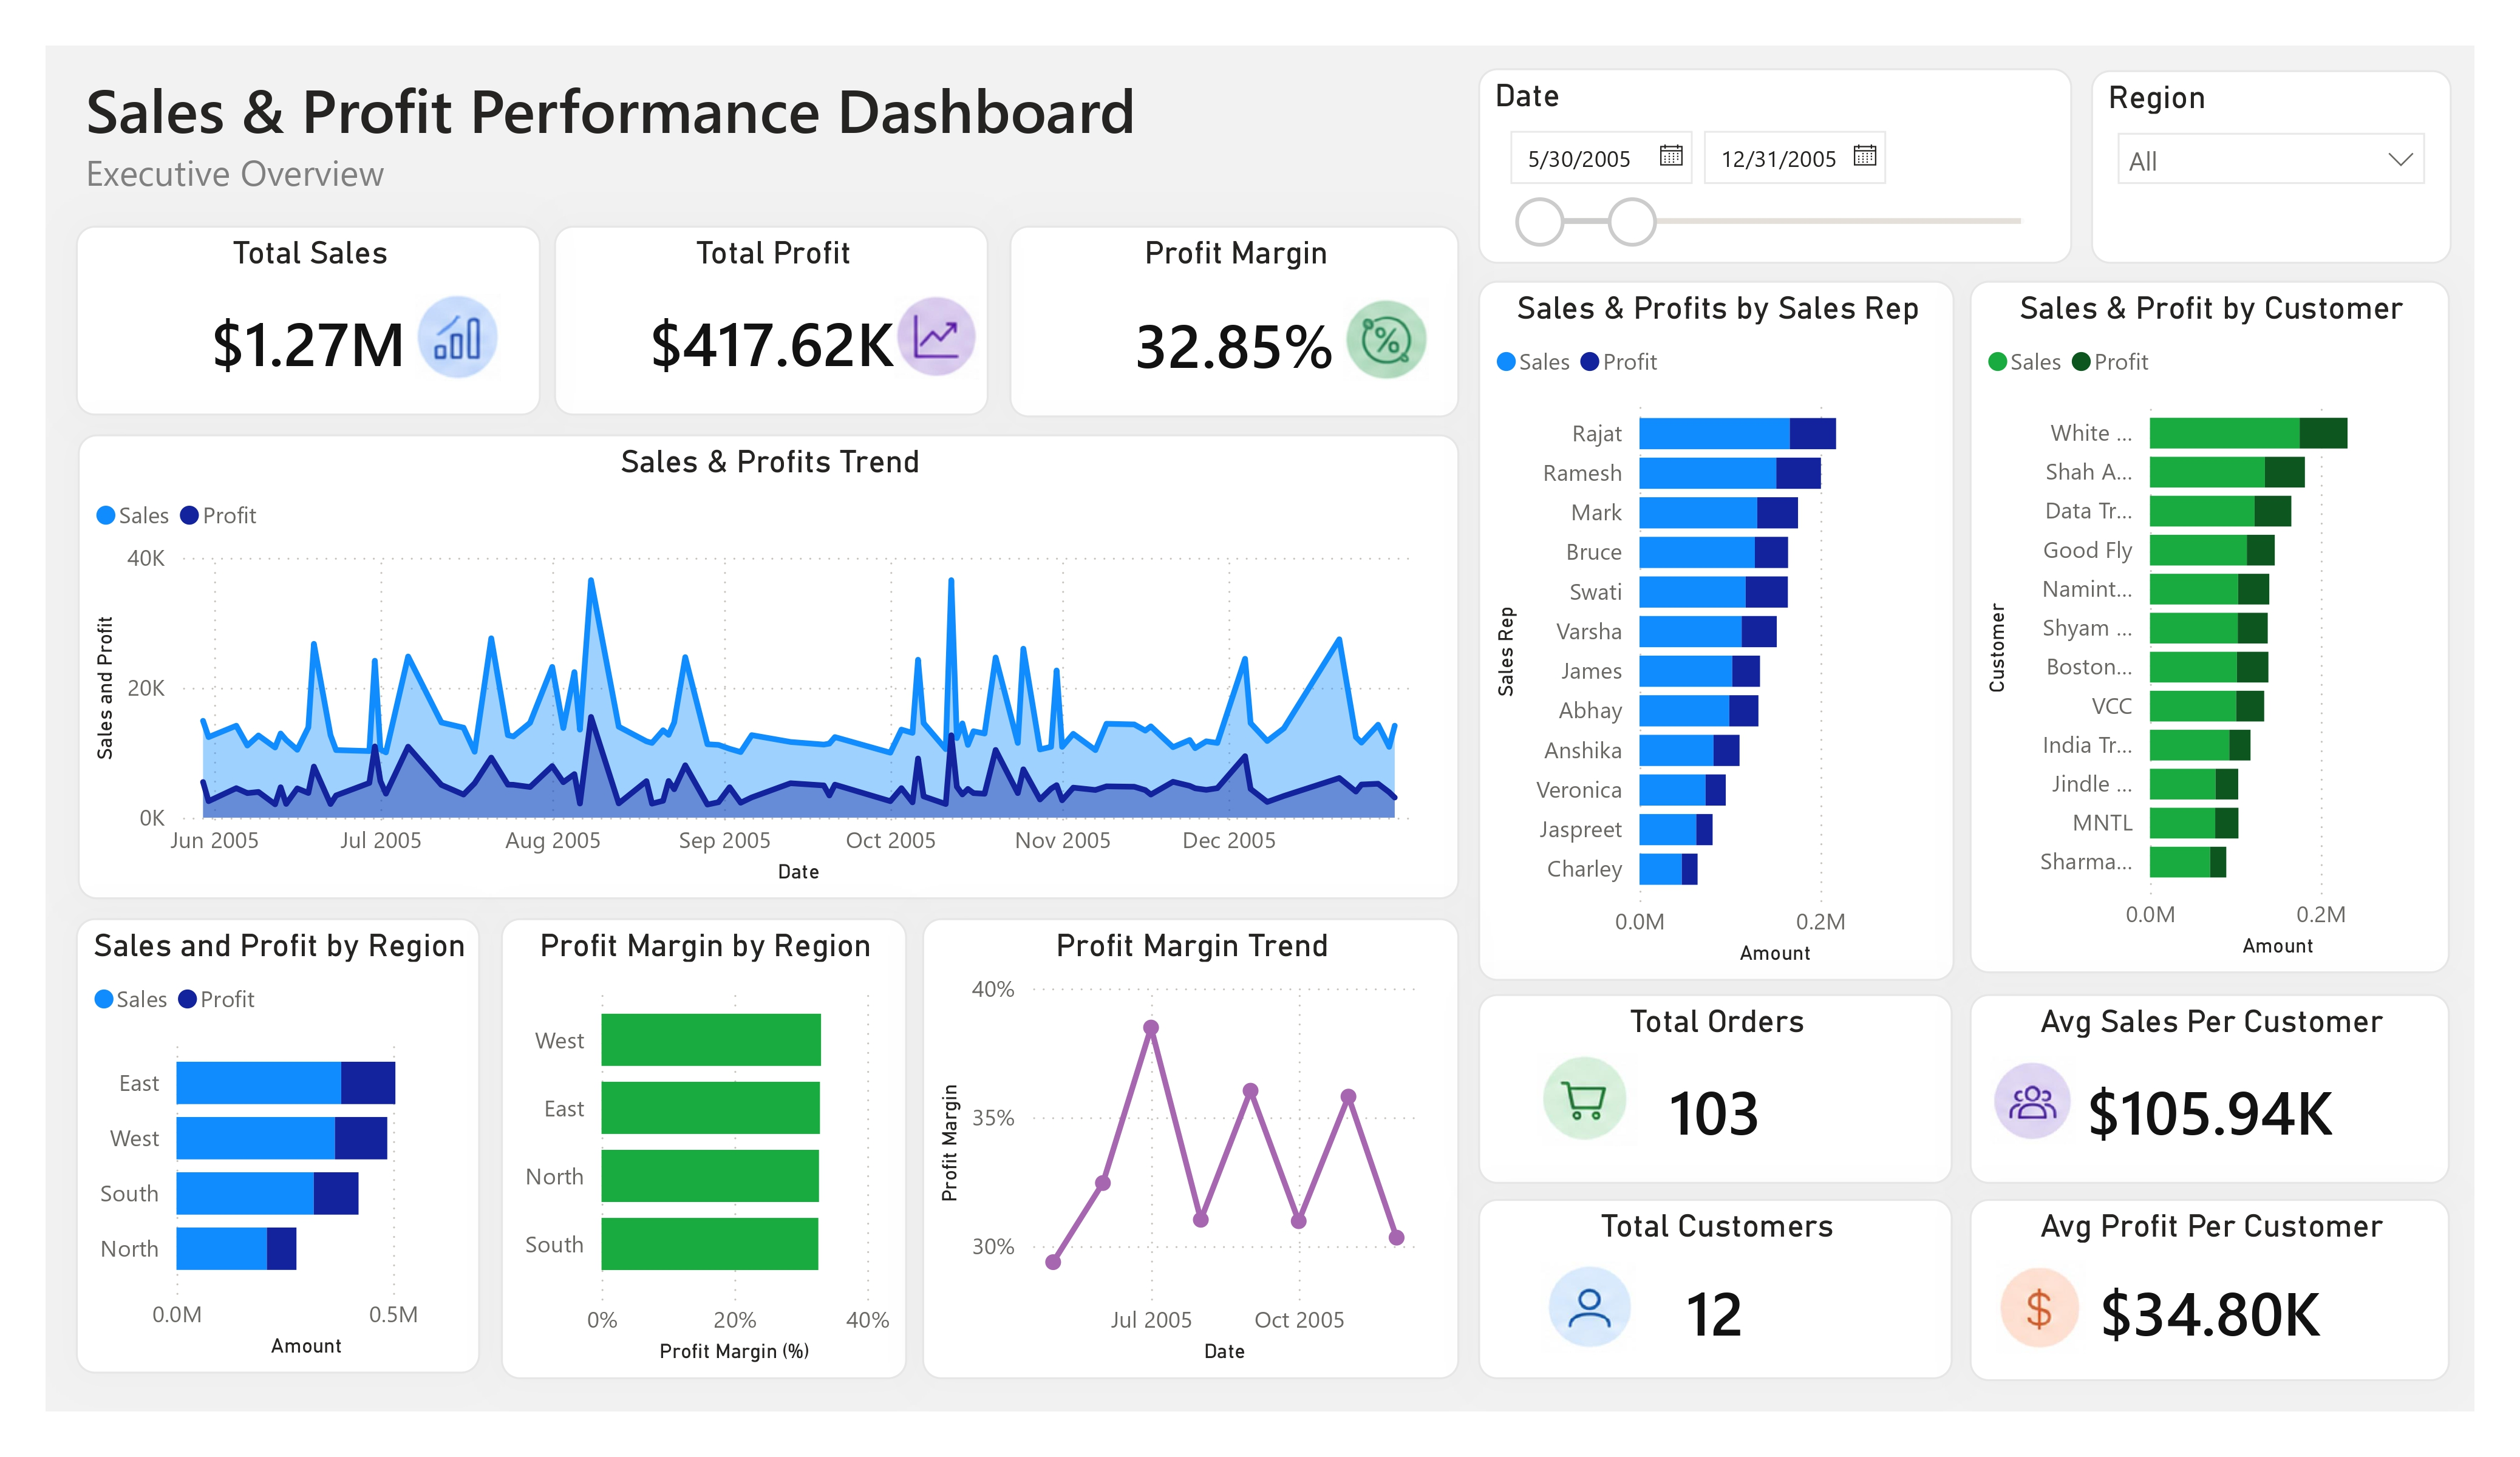

The page's visual inventory and layout, read from the dashboard file:
{"tool":"powerbi","page":{"name":"Executive Overview","canvas":[1280,720],"ordinal":0},"visuals":[{"type":"cardVisual","title":"Profit Margin","fields":{"Data":["DataModel.Profit Margin"]},"box":[507.7,95.4,236.9,100.8],"z":0},{"type":"cardVisual","title":"Total Profit","fields":{"Data":["Sum(DataModel.Profit)"]},"box":[268.2,95.3,228.8,100],"z":1000},{"type":"cardVisual","title":"Total Sales","fields":{"Data":["Sum(DataModel.Sales)"]},"box":[16.2,95.4,244.6,100],"z":2000},{"type":"areaChart","title":"Sales & Profits Trend","fields":{"Y":["DataModel.Total Sales","DataModel.Total Profits"],"Category":["DataModel.Date.Variation.Date Hierarchy.Year","DataModel.Date.Variation.Date Hierarchy.Quarter","DataModel.Date.Variation.Date Hierarchy.Month","DataModel.Date.Variation.Date Hierarchy.Day"]},"box":[16.9,205.4,728.5,244.6],"z":3000},{"type":"barChart","title":"Sales & Profits by Sales Rep","fields":{"Y":["DataModel.Total Sales","DataModel.Total Profits"],"Category":["DataModel.Sales Rep"]},"box":[755,123.9,250.6,369.4],"z":4000},{"type":"barChart","title":"Sales & Profit by Customer","fields":{"Y":["DataModel.Total Sales","DataModel.Total Profits"],"Category":["DataModel.CustomerName"]},"box":[1014.4,123.9,252.8,365],"z":5000},{"type":"slicer","title":"Date","fields":{"Values":["DataModel.Date"]},"box":[755,12.2,312.8,102.8],"z":6000},{"type":"slicer","title":"Region","fields":{"Values":["DataModel.Region"]},"box":[1077.5,12.5,190,102.5],"z":7000},{"type":"textbox","box":[16.4,6.4,582.7,77.3],"z":8000},{"type":"barChart","title":"Sales and Profit by Region","fields":{"Category":["DataModel.Region"],"Y":["DataModel.Total Sales","Sum(DataModel.Profit)"]},"box":[16.2,460,212.5,240],"z":9000},{"type":"clusteredBarChart","fields":{"Category":["DataModel.Region"],"Y":["DataModel.Profit Margin"]},"box":[240,460,213.8,242.5],"z":10000},{"type":"lineChart","title":"Profit Margin Trend","fields":{"Category":["DataModel.Date.Variation.Date Hierarchy.Year","DataModel.Date.Variation.Date Hierarchy.Quarter","DataModel.Date.Variation.Date Hierarchy.Month"],"Y":["DataModel.Profit Margin"]},"box":[461.7,460,283.3,242.5],"z":11000},{"type":"cardVisual","title":"Total Orders","fields":{"Data":["DataModel.Total Orders"]},"box":[755,500,250,100],"z":12000},{"type":"cardVisual","title":"Total Customers","fields":{"Data":["DataModel.Total Customers"]},"box":[755,608.3,250,95],"z":13000},{"type":"cardVisual","title":"Avg Sales Per Customer","fields":{"Data":["DataModel.Average Sales Per Customer"]},"box":[1014.4,500,252.8,100],"z":14000},{"type":"cardVisual","title":"Avg Profit Per Customer","fields":{"Data":["DataModel.Average Order Value Per Customer"]},"box":[1014.4,608.3,252.8,95.6],"z":15000},{"type":"image","box":[447.4,129.1,45,50],"z":16000},{"type":"image","box":[683.8,130,45,50],"z":17000},{"type":"image","box":[195.3,128.7,44.7,50],"z":18000},{"type":"image","box":[786.2,530,52.5,51.2],"z":19000},{"type":"image","box":[787.5,636.2,50,57.5],"z":20000},{"type":"image","box":[1025,531.2,45,50],"z":21000},{"type":"image","box":[1025,640,52.5,50],"z":22000}]}

Visuals, with their boxes on the page's 1280x720 design canvas (x1, y1, x2, y2). These are canvas units, not pixel positions in the 2520x1457 screenshot, which may show the page scaled, cropped or inside an application window:
"Profit Margin" cardVisual: [x1=508, y1=95, x2=745, y2=196]
"Total Profit" cardVisual: [x1=268, y1=95, x2=497, y2=195]
"Total Sales" cardVisual: [x1=16, y1=95, x2=261, y2=195]
"Sales & Profits Trend" areaChart: [x1=17, y1=205, x2=745, y2=450]
"Sales & Profits by Sales Rep" barChart: [x1=755, y1=124, x2=1006, y2=493]
"Sales & Profit by Customer" barChart: [x1=1014, y1=124, x2=1267, y2=489]
"Date" slicer: [x1=755, y1=12, x2=1068, y2=115]
"Region" slicer: [x1=1078, y1=12, x2=1268, y2=115]
textbox: [x1=16, y1=6, x2=599, y2=84]
"Sales and Profit by Region" barChart: [x1=16, y1=460, x2=229, y2=700]
clusteredBarChart - DataModel.Region x DataModel.Profit Margin: [x1=240, y1=460, x2=454, y2=702]
"Profit Margin Trend" lineChart: [x1=462, y1=460, x2=745, y2=702]
"Total Orders" cardVisual: [x1=755, y1=500, x2=1005, y2=600]
"Total Customers" cardVisual: [x1=755, y1=608, x2=1005, y2=703]
"Avg Sales Per Customer" cardVisual: [x1=1014, y1=500, x2=1267, y2=600]
"Avg Profit Per Customer" cardVisual: [x1=1014, y1=608, x2=1267, y2=704]
image: [x1=447, y1=129, x2=492, y2=179]
image: [x1=684, y1=130, x2=729, y2=180]
image: [x1=195, y1=129, x2=240, y2=179]
image: [x1=786, y1=530, x2=839, y2=581]
image: [x1=788, y1=636, x2=838, y2=694]
image: [x1=1025, y1=531, x2=1070, y2=581]
image: [x1=1025, y1=640, x2=1078, y2=690]
